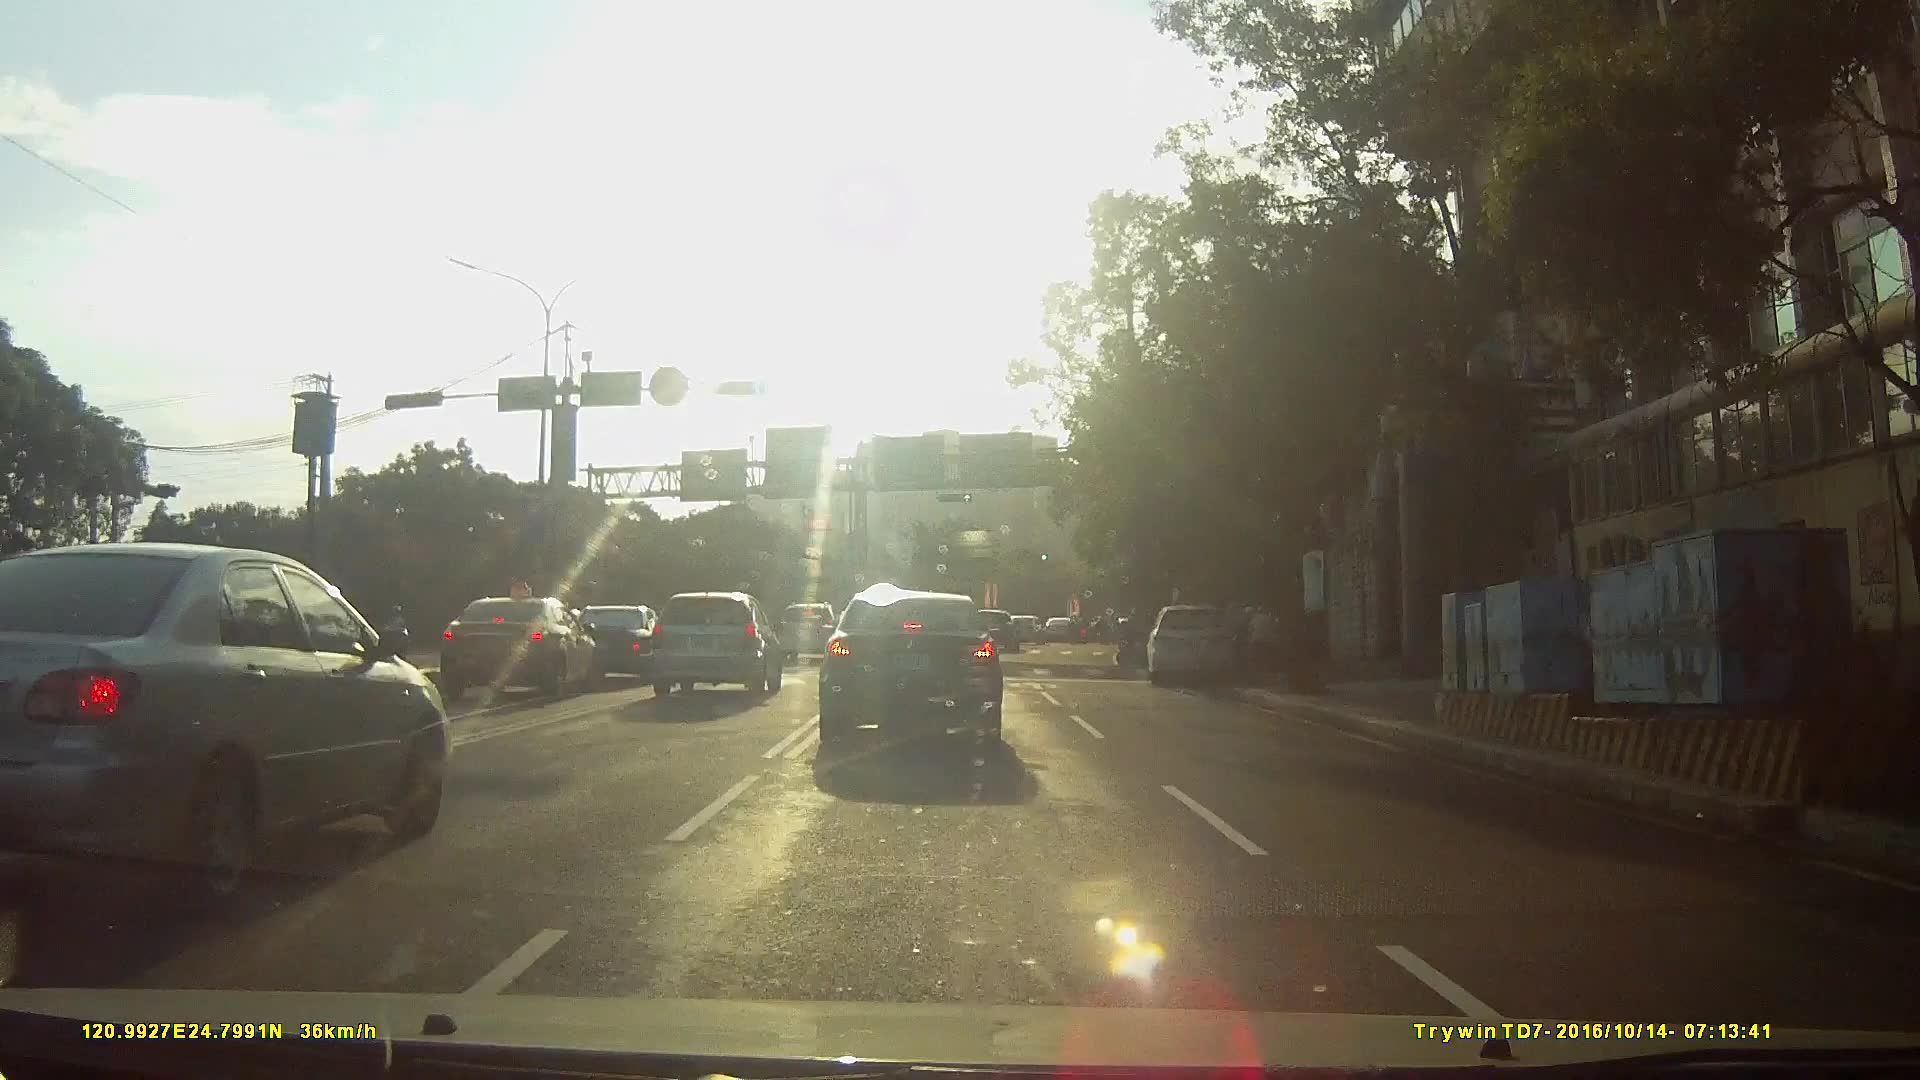pedestrian: (1244, 607, 1279, 674)
vehicle: (1, 541, 470, 908), (810, 598, 1020, 774), (410, 598, 585, 705), (645, 590, 783, 702), (1146, 603, 1253, 691), (548, 605, 661, 687), (777, 604, 846, 669), (966, 611, 1024, 657), (1009, 619, 1048, 651), (1044, 618, 1084, 646)
